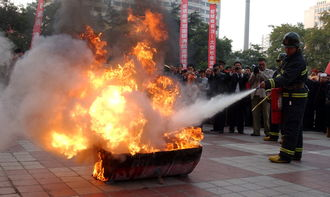fire: (37, 13, 204, 150)
